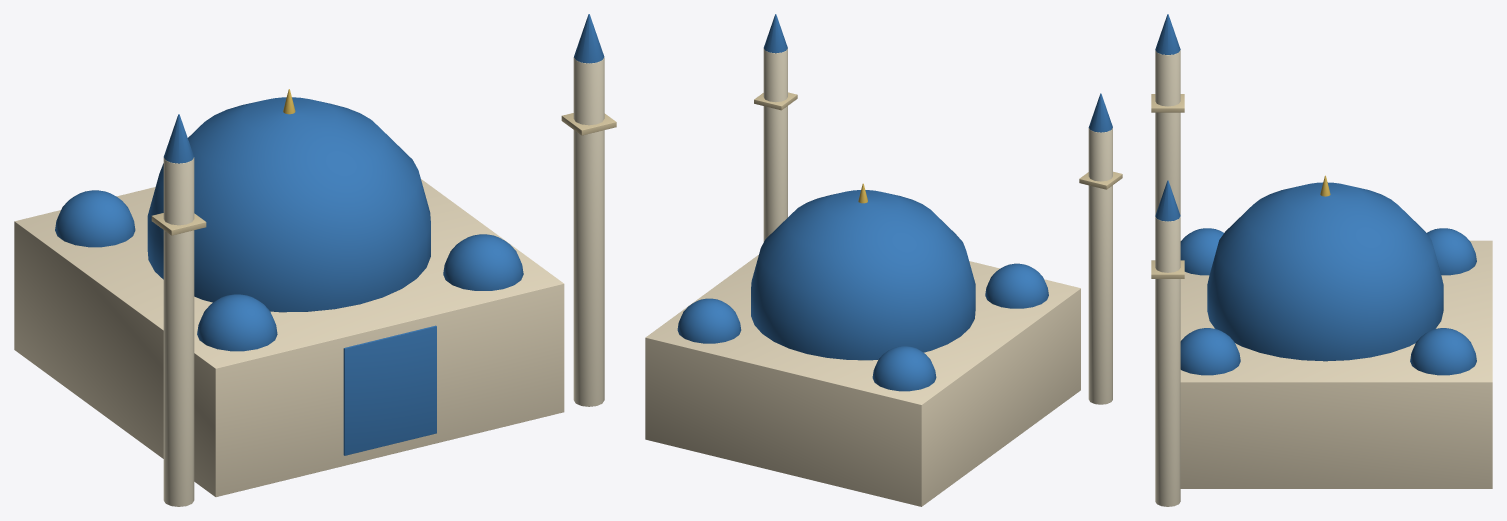
The model's file is marco_mesquita.glb.
The picture shows the model from 3 angles, left to right: view 1: azimuth 30°, elevation 25°; view 2: azimuth 150°, elevation 25°; view 3: azimuth 270°, elevation 25°; orthographic projection. The views are drawn at different scales.
Visible parts, largest first — view 1: marco_mesquita; view 2: marco_mesquita; view 3: marco_mesquita.
Part boxes in pixels (x1,y1,x2,y2): marco_mesquita: (14,14,616,506); marco_mesquita: (645,14,1122,506); marco_mesquita: (1151,14,1492,506).
Size of the model in its own units: 43.4 by 36 by 34.7.
